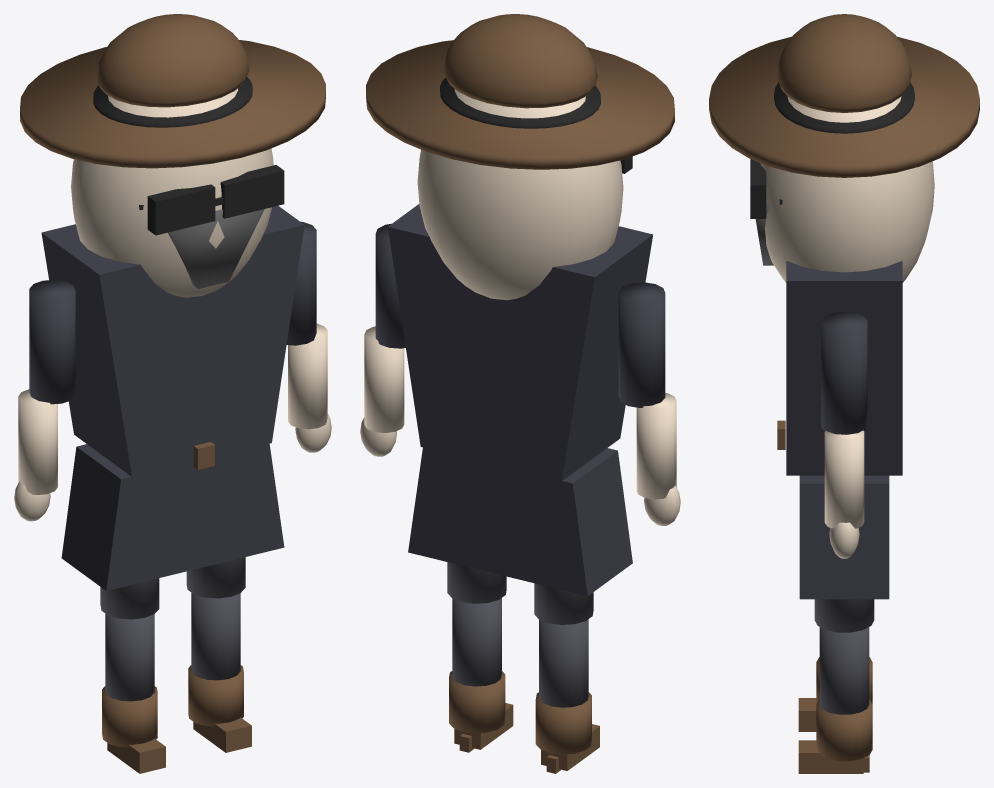
The model's file is Bandit.fbx.
3 views of the same model, side by side, from view 1: azimuth 30°, elevation 25°; view 2: azimuth 150°, elevation 25°; view 3: azimuth 270°, elevation 25° (orthographic).
Visible parts, largest first — view 1: Torso, CowboyHat, Head, Arm_L, Leg_L, Leg_R, Arm_R, Sunglasses, Mask; view 2: Torso, CowboyHat, Head, Arm_L, Leg_L, Leg_R, Arm_R; view 3: CowboyHat, Torso, Head, Arm_R, Leg_R, Leg_L, Sunglasses.
Boxes of the visible parts, box(x1,y1,x2,y2) form: Torso: box(41, 206, 304, 590); CowboyHat: box(20, 14, 325, 168); Head: box(71, 88, 273, 297); Arm_L: box(14, 280, 75, 521); Leg_L: box(100, 578, 165, 773); Leg_R: box(186, 557, 251, 752); Arm_R: box(286, 221, 331, 452); Sunglasses: box(139, 165, 284, 235); Mask: box(168, 209, 264, 288); Torso: box(388, 204, 653, 596); CowboyHat: box(366, 14, 674, 169); Head: box(417, 89, 623, 300); Arm_L: box(618, 282, 680, 525); Leg_L: box(534, 583, 599, 773); Leg_R: box(447, 562, 513, 752); Arm_R: box(360, 223, 405, 456); CowboyHat: box(709, 14, 979, 177); Torso: box(777, 261, 902, 599); Head: box(760, 96, 934, 282); Arm_R: box(821, 311, 867, 558); Leg_R: box(798, 599, 874, 773); Leg_L: box(798, 657, 872, 731); Sunglasses: box(750, 159, 782, 218).
Size of the model in its own units: 110 by 241 by 81.6.
